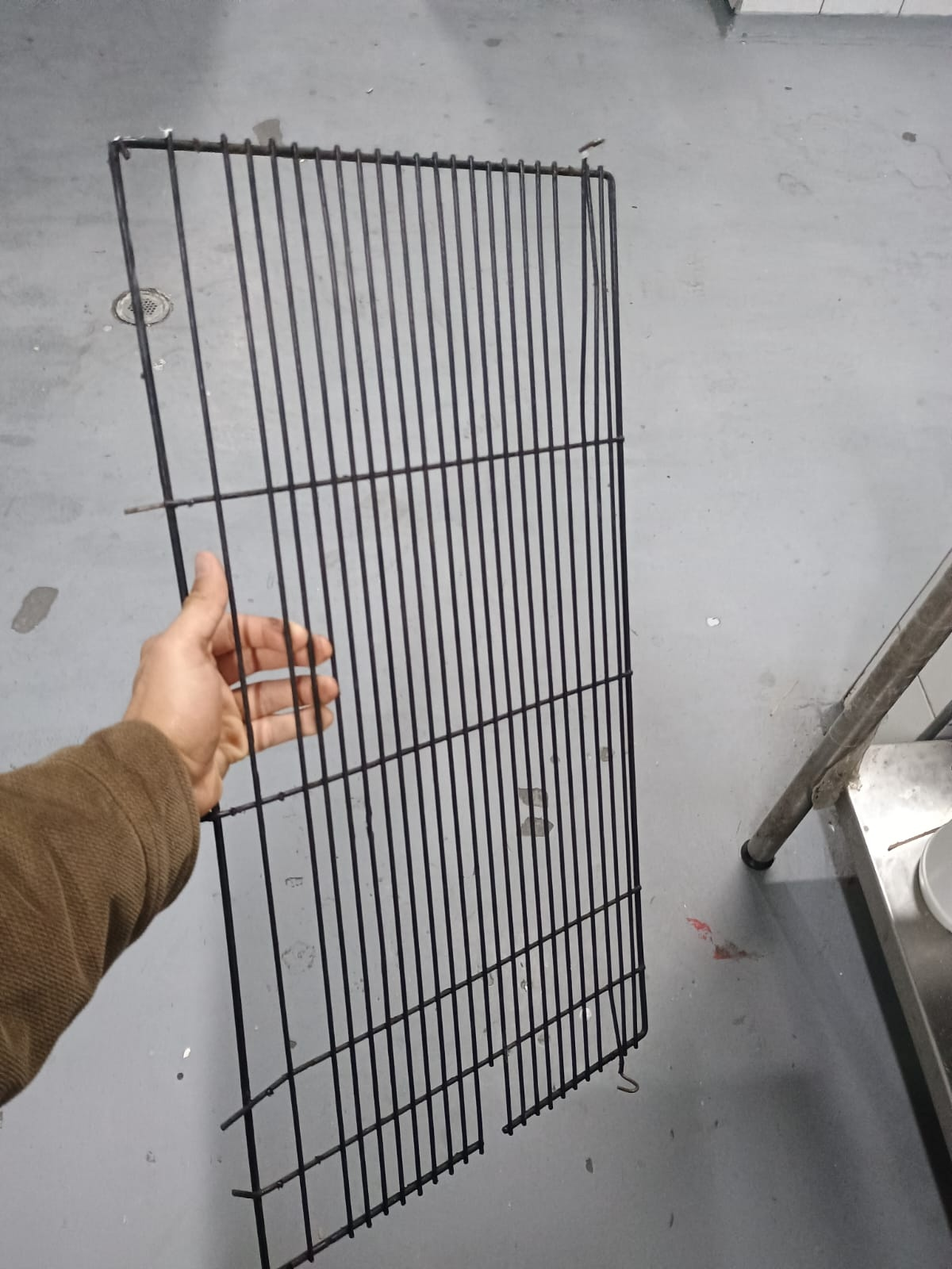Metal: (101, 127, 651, 1258)
